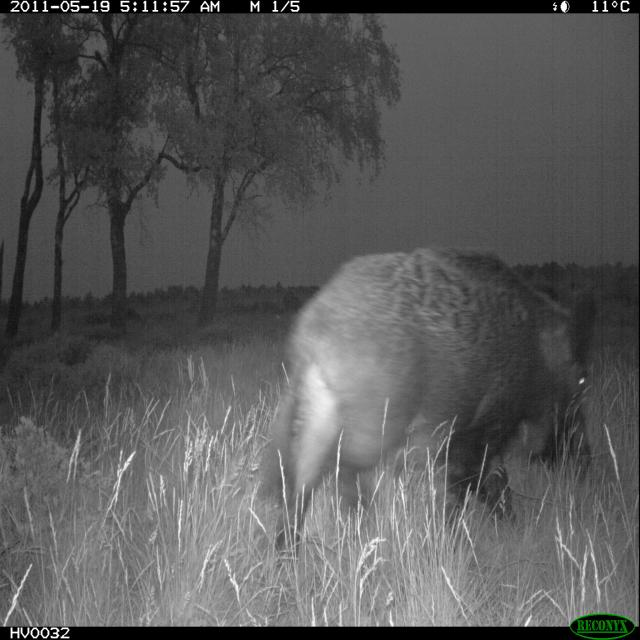boar: (264, 236, 618, 512)
